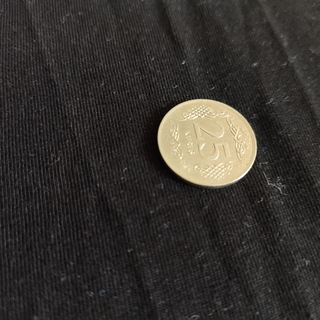25KURUS: (155, 96, 258, 189)
